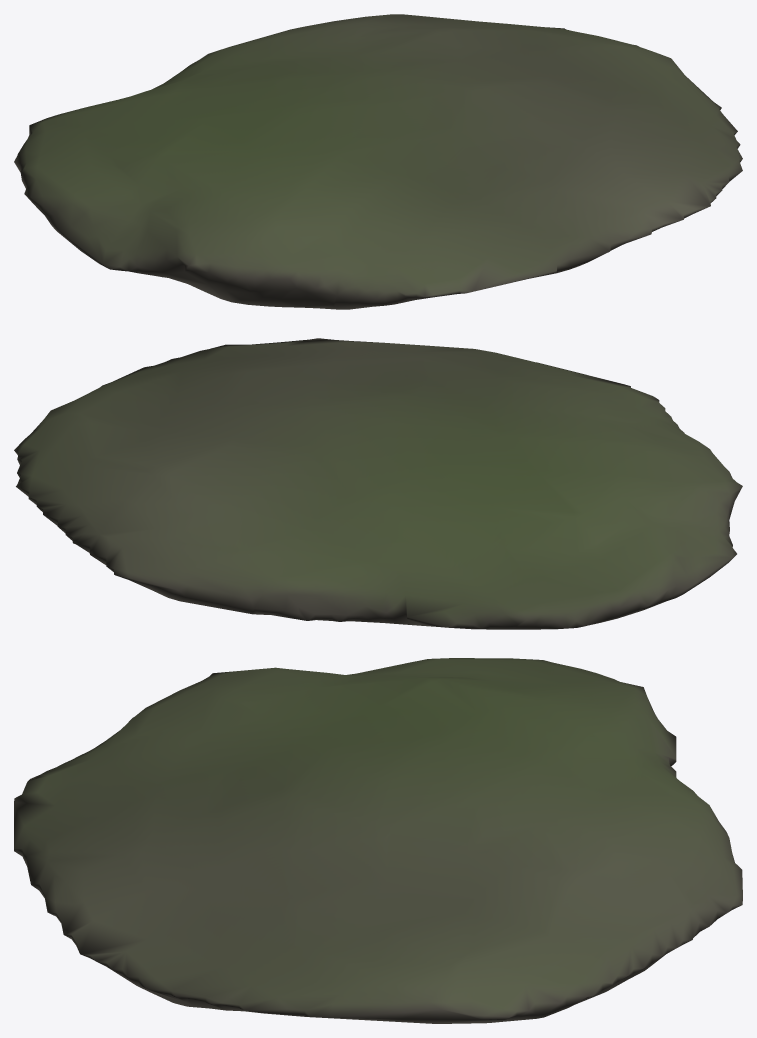
File: stepping_stone.glb
3 renders of one model, top to bottom at view 1: azimuth 30°, elevation 25°; view 2: azimuth 150°, elevation 25°; view 3: azimuth 270°, elevation 25°, orthographic. The views are drawn at different scales.
Parts seen in each view (by area): view 1: step; view 2: step; view 3: step.
Part boxes in pixels (x1,y1,x2,y2): step: (14, 14, 742, 309); step: (14, 338, 742, 629); step: (14, 658, 742, 1023).
Bounding box in the file's own units: 1.01 × 0.1691 × 0.8823.
